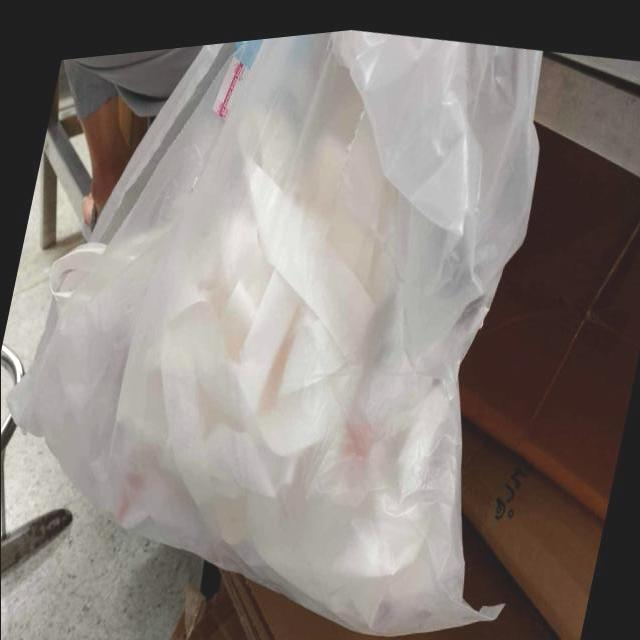General: (8, 30, 545, 636)
Sharps: (1, 507, 74, 575)
